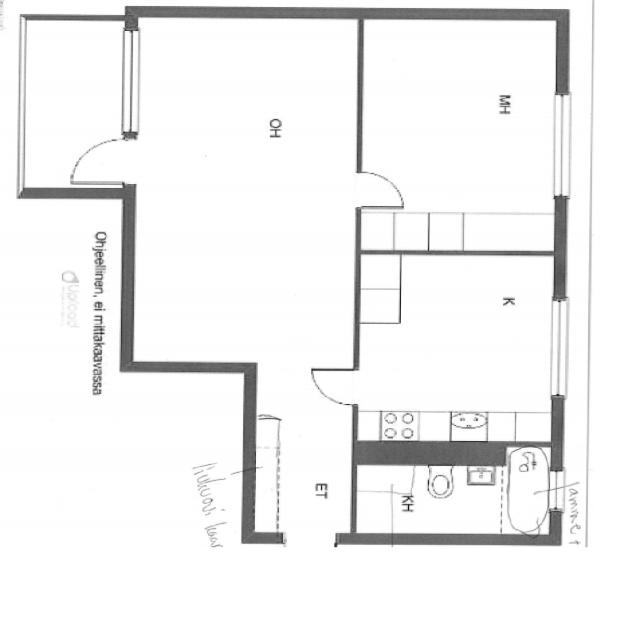door: (63, 133, 131, 187), (347, 163, 415, 215), (302, 361, 362, 410)
window: (548, 83, 577, 203), (544, 286, 572, 408), (118, 20, 142, 142), (544, 462, 571, 518)
zone: (132, 13, 360, 364), (355, 8, 570, 248), (353, 250, 564, 444), (356, 449, 547, 544), (504, 443, 556, 538)
